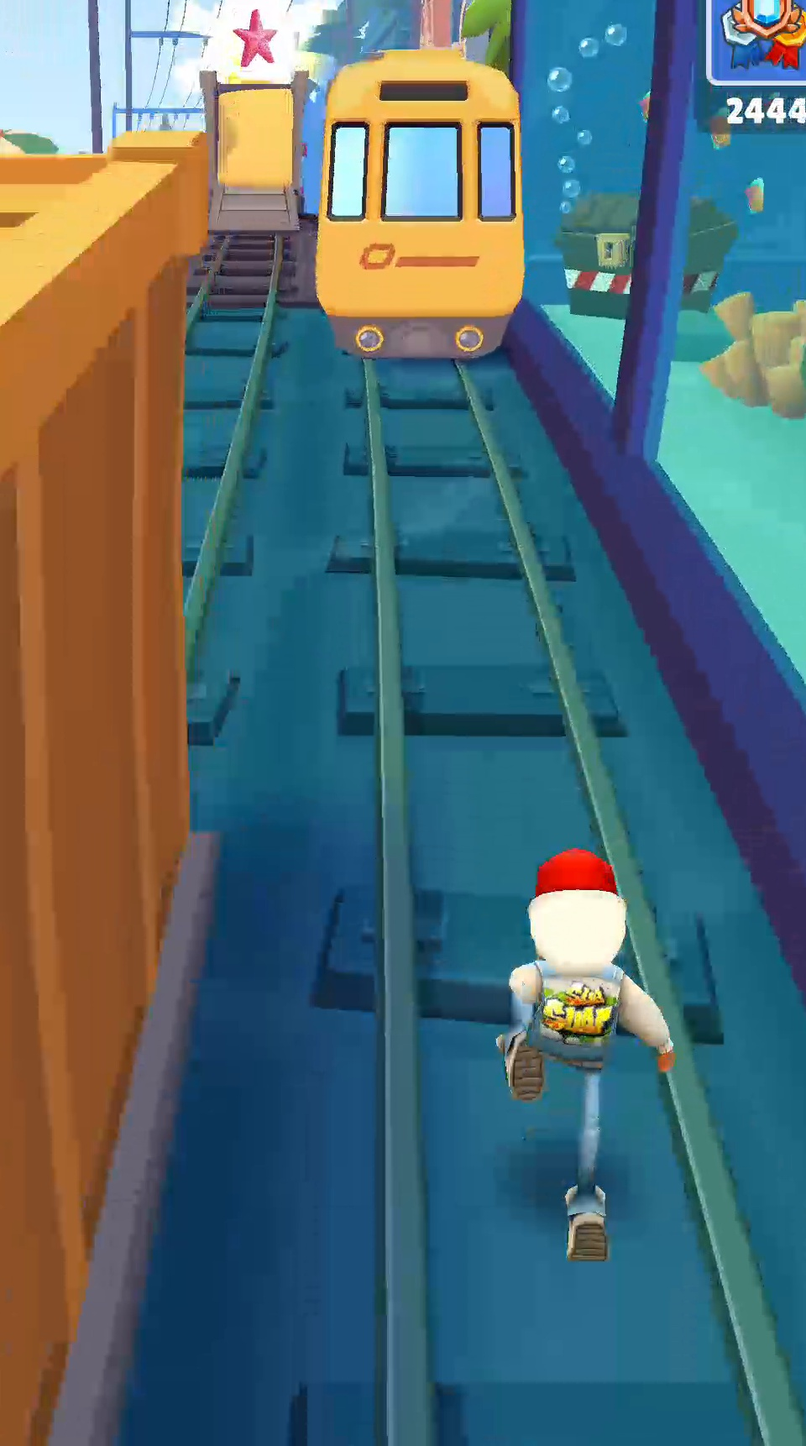climber: (207, 73, 304, 232)
train: (0, 134, 214, 1445), (316, 50, 524, 359)
